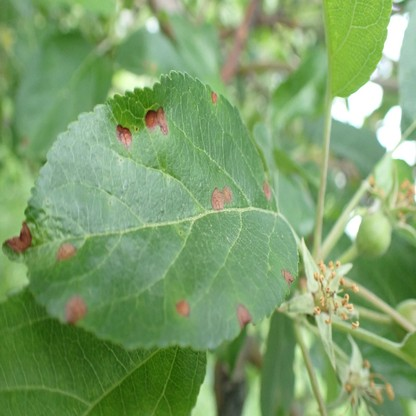frogeye: (6, 222, 32, 253), (64, 294, 88, 326), (145, 105, 168, 137), (210, 186, 232, 213), (56, 241, 78, 261), (236, 303, 252, 329), (117, 124, 132, 150), (176, 300, 192, 318), (282, 268, 294, 288), (262, 180, 270, 198), (211, 90, 217, 104)
